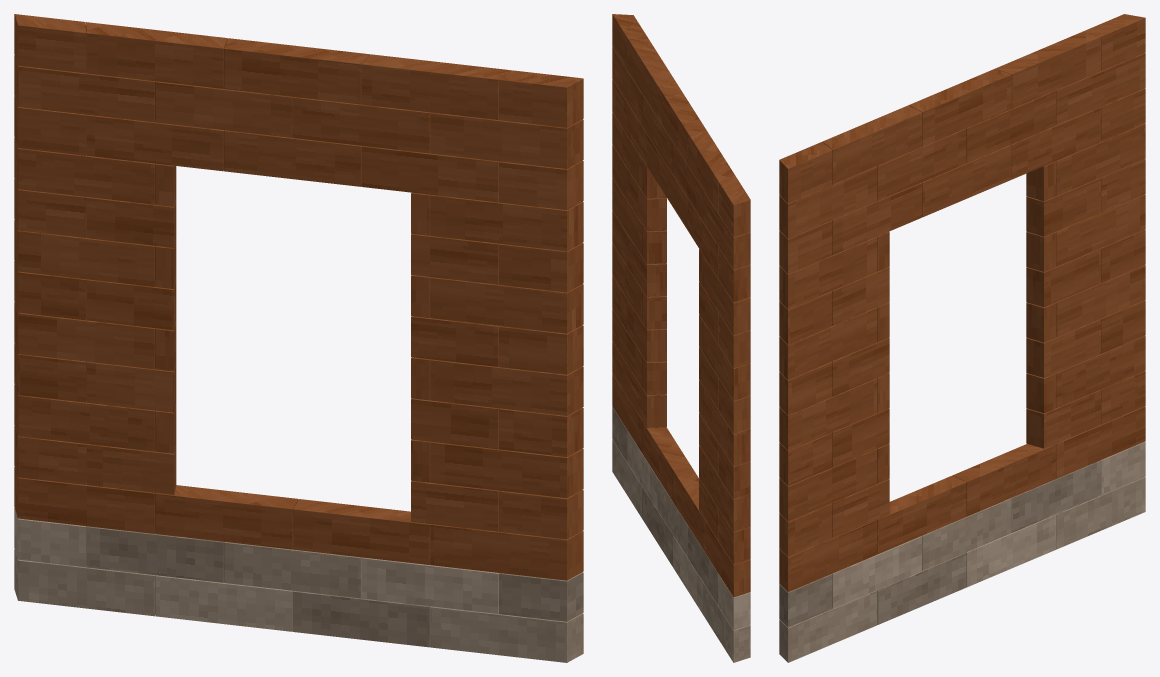
File: Courses-3.glb
3 views of the same model, side by side, from view 1: azimuth 30°, elevation 25°; view 2: azimuth 150°, elevation 25°; view 3: azimuth 270°, elevation 25° (orthographic). The views are drawn at different scales.
Parts seen in each view (by area): view 1: Courses-3; view 2: Courses-3; view 3: Courses-3.
Boxes of the visible parts, box(x1,y1,x2,y2) form: Courses-3: box(14, 14, 583, 662); Courses-3: box(612, 14, 750, 662); Courses-3: box(779, 14, 1145, 662).
Bounding box in the file's own units: 2.38 × 3.55 × 2.38.
Materials: 4 (4 with a texture image).
